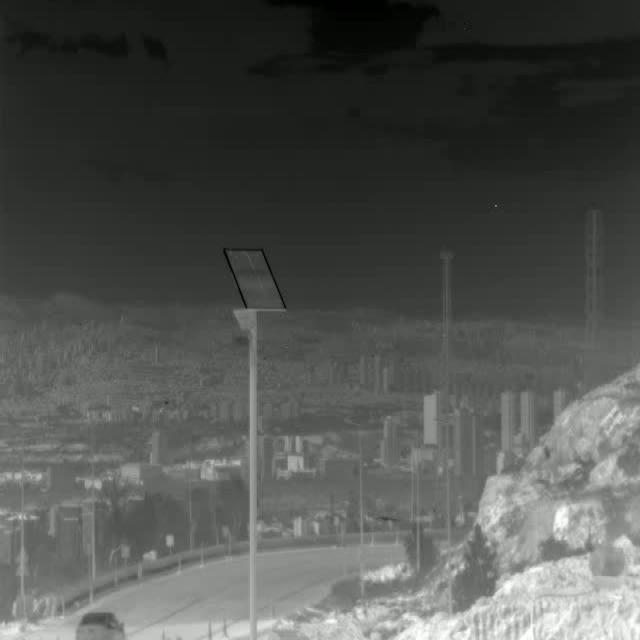Car: (74, 610, 125, 640)
